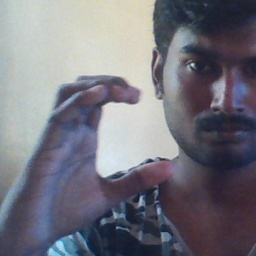C: (35, 65, 176, 201)
